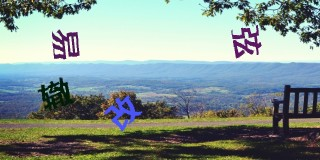弦: (228, 25, 262, 59)
改: (102, 95, 142, 131)
易: (51, 27, 81, 60)
辙: (38, 77, 73, 110)
